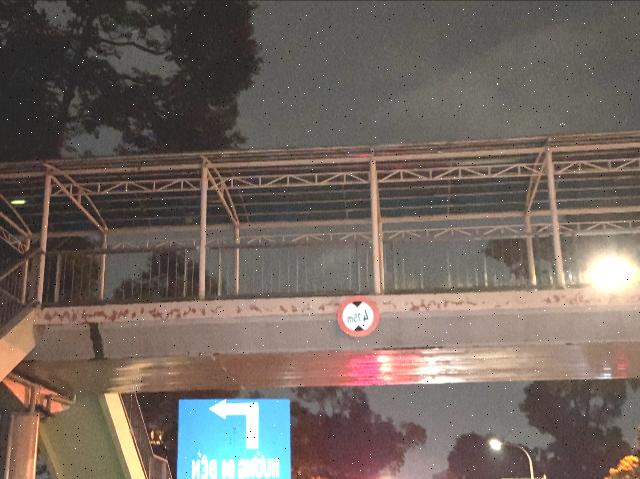han-che-chieu-cao: (338, 295, 380, 338)
